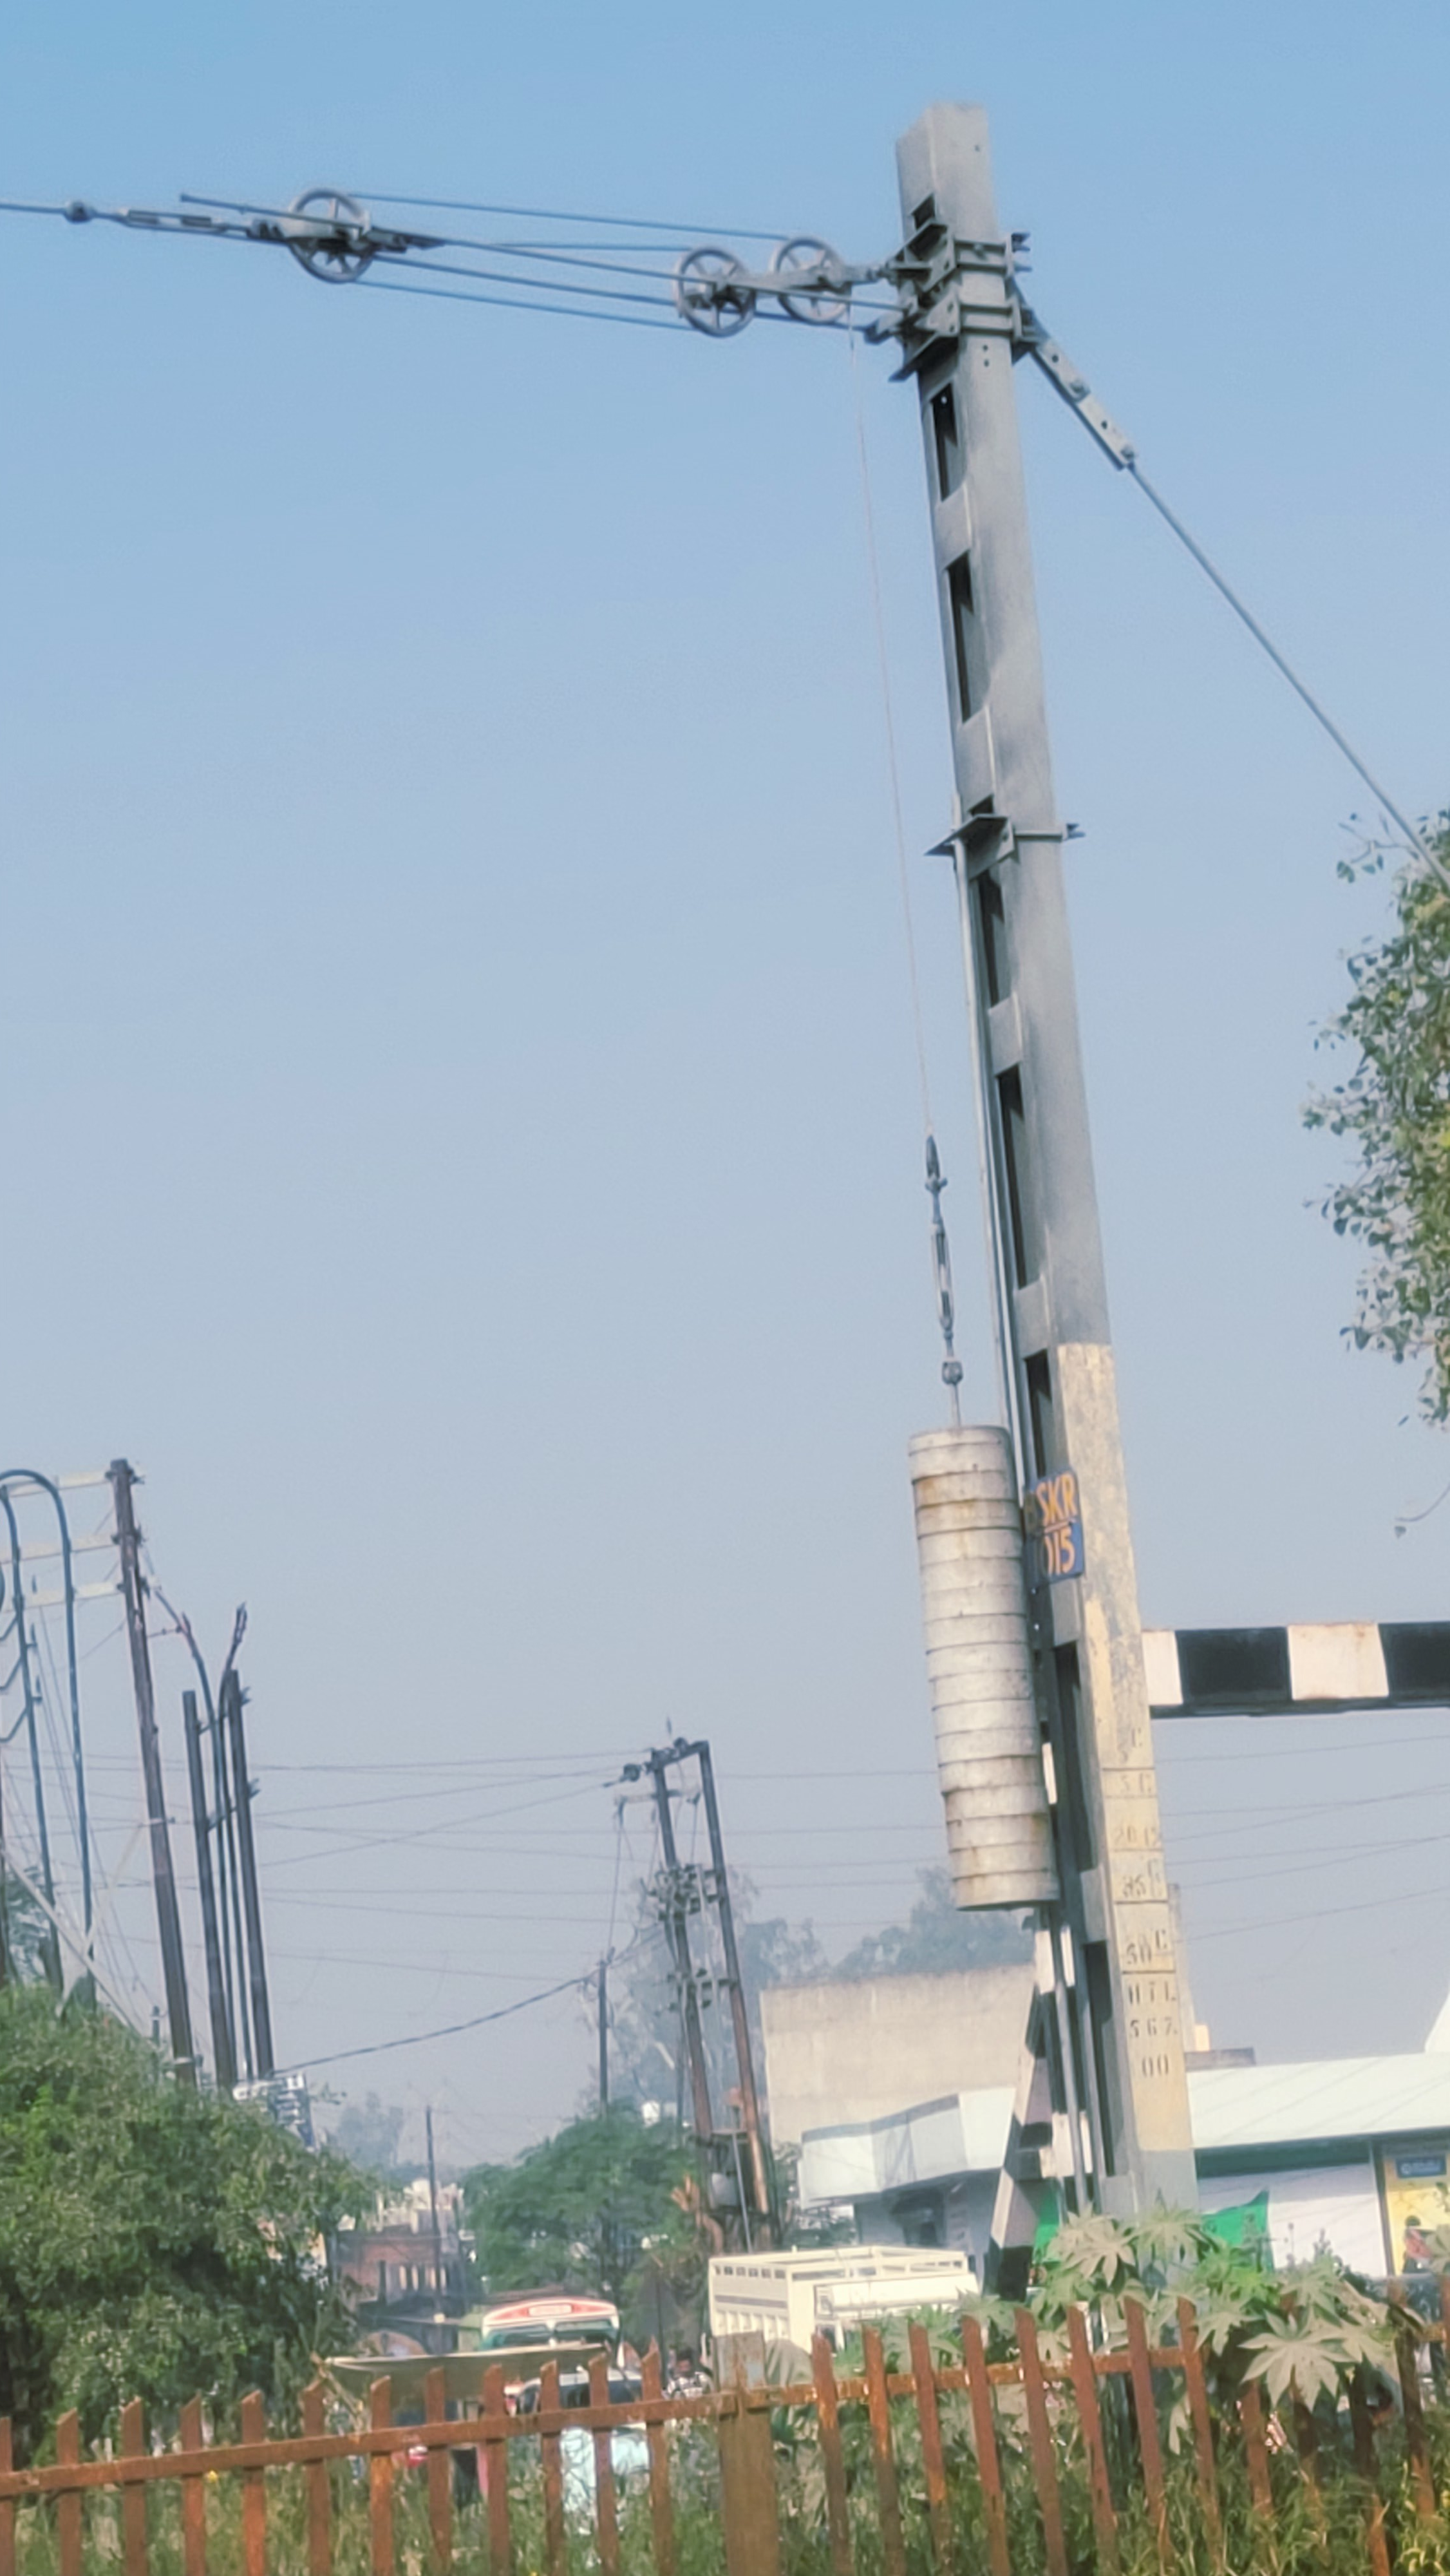counter weight: (847, 1394, 1079, 1944)
pulley: (767, 200, 868, 336), (279, 161, 378, 290), (654, 232, 757, 354)
